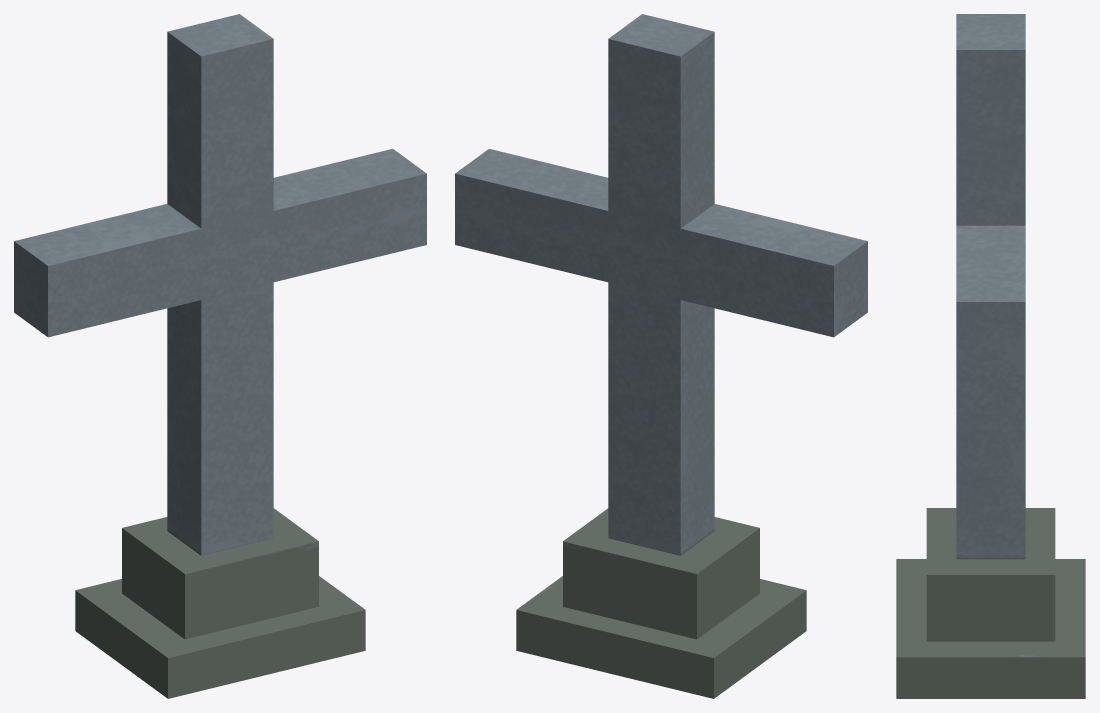
The model's file is Grave_1.fbx.
3 views of the same model, side by side, from view 1: azimuth 30°, elevation 25°; view 2: azimuth 150°, elevation 25°; view 3: azimuth 270°, elevation 25° (orthographic). The views are drawn at different scales.
Parts seen in each view (by area): view 1: pCube1; view 2: pCube1; view 3: pCube1.
Boxes of the visible parts, left/top/right/bottom form: pCube1: left=14, top=14, right=426, bottom=698; pCube1: left=455, top=14, right=867, bottom=698; pCube1: left=896, top=14, right=1085, bottom=698.
Bounding box in the file's own units: 132 × 201 × 55.84.
Materials: 1 (1 with a texture image).
